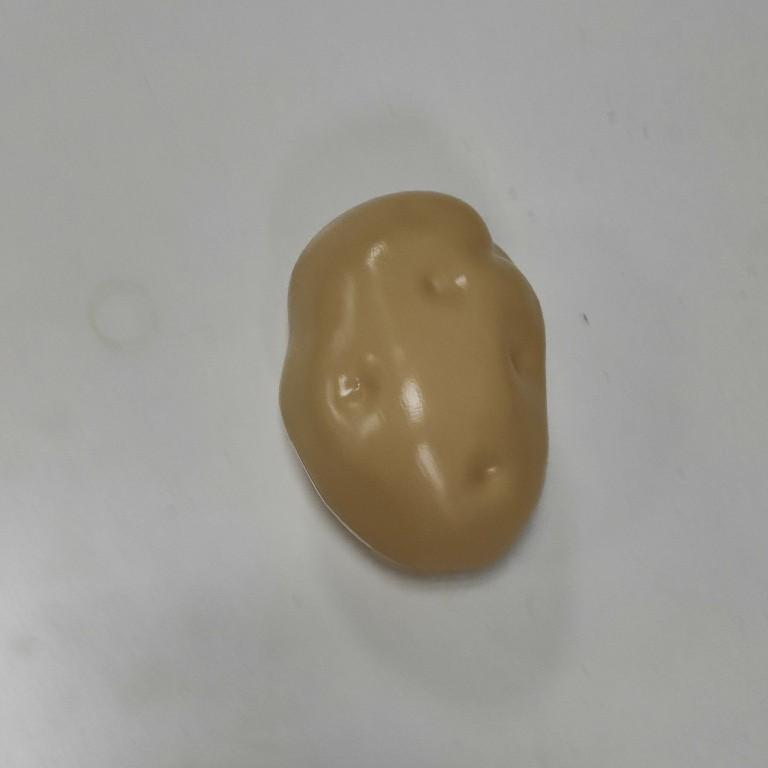fruit_potato: (272, 185, 553, 582)
